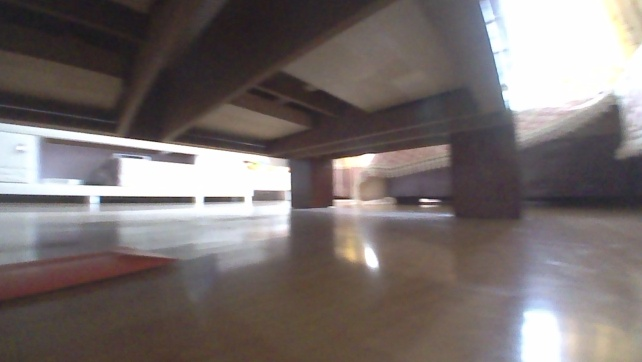sofa1: (365, 87, 641, 205)
tea_table: (0, 0, 523, 223)
